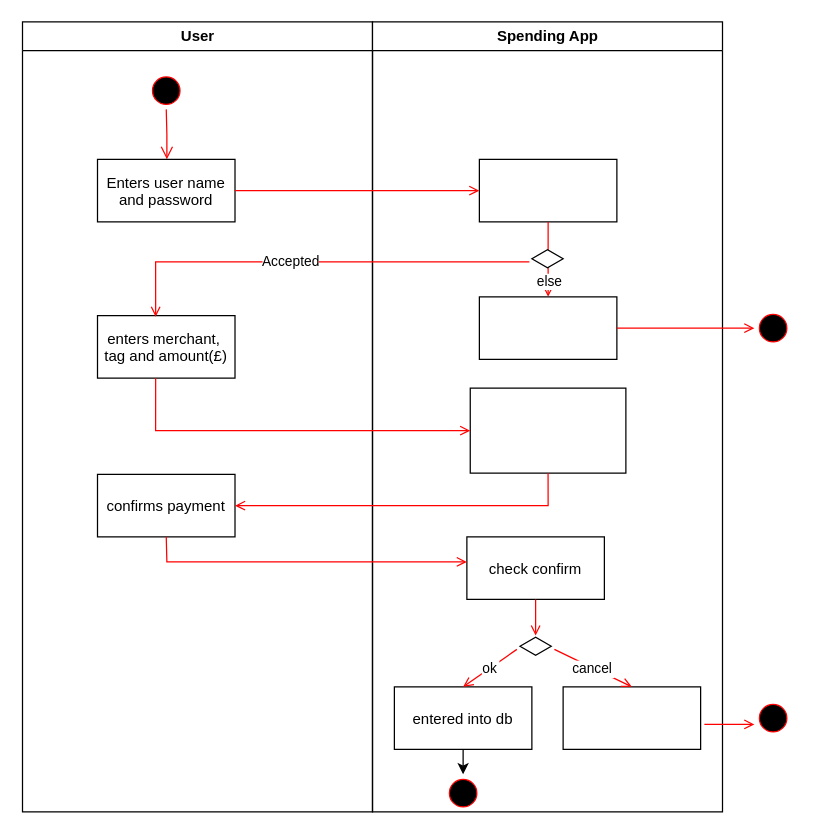
Image size: 814x834. Some labels were removed from this diagram. The shapes that lost their labels are listed below. From the top down, each one's centre as x and y in pixels, then its label:
At (x=547, y=190): "Verify user name and password".
At (x=547, y=327): "return invalid and redirect to login".
At (x=547, y=430): "generates transaction and asks for confimation".
At (x=631, y=717): "redirect to transaction viewer".
